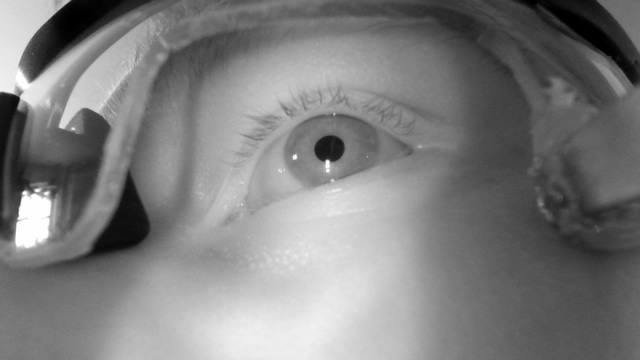pupil: (314, 134, 346, 163)
